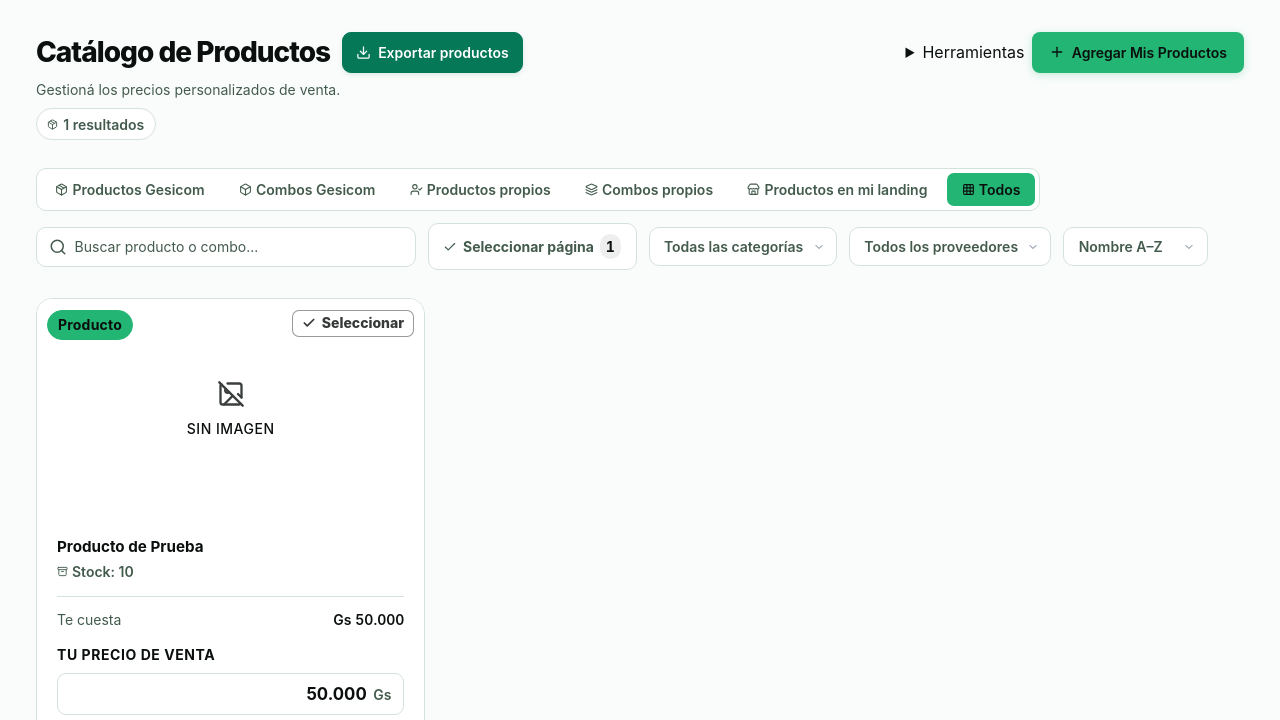
Test case: VitrinaGrid Component › muestra "Importar mis productos" junto al orden solo en Productos propios
Expected: the heading "Producto de Prueba" is shown, [57,537,204,556]
Expected: the button "Importar mis productos" is not shown
Step 1. Click the button "Productos propios" → x=480, y=190, box [395,173,565,206]
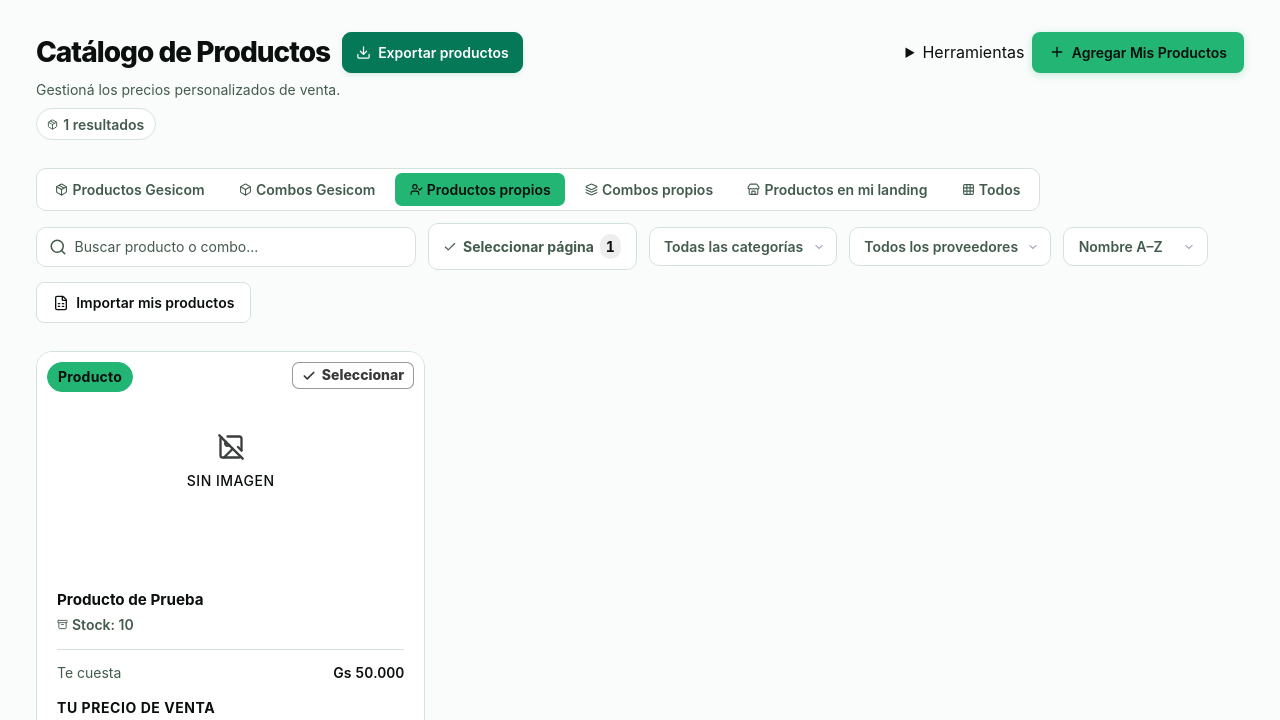
Result: the button "Importar mis productos" is shown at [36,282,251,323]
Step 2. Click the button "Todos" → x=991, y=190, box [947,173,1035,206]
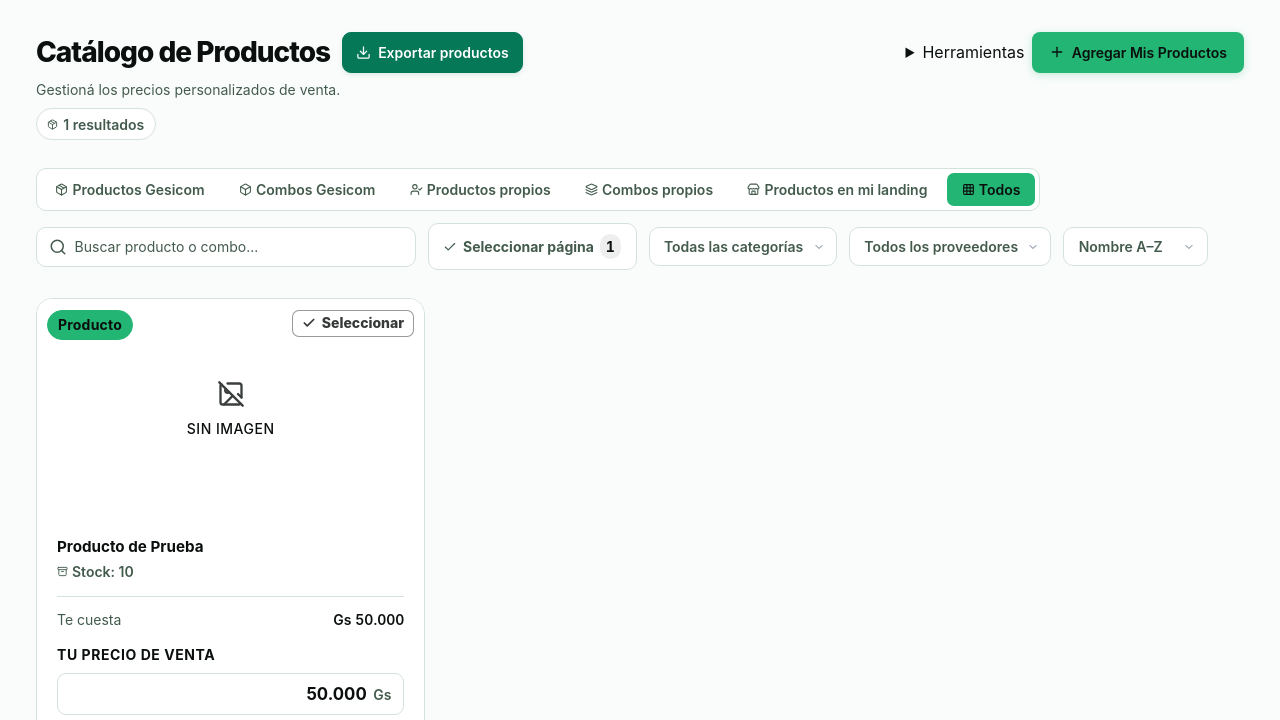
Result: the button "Importar mis productos" is gone
